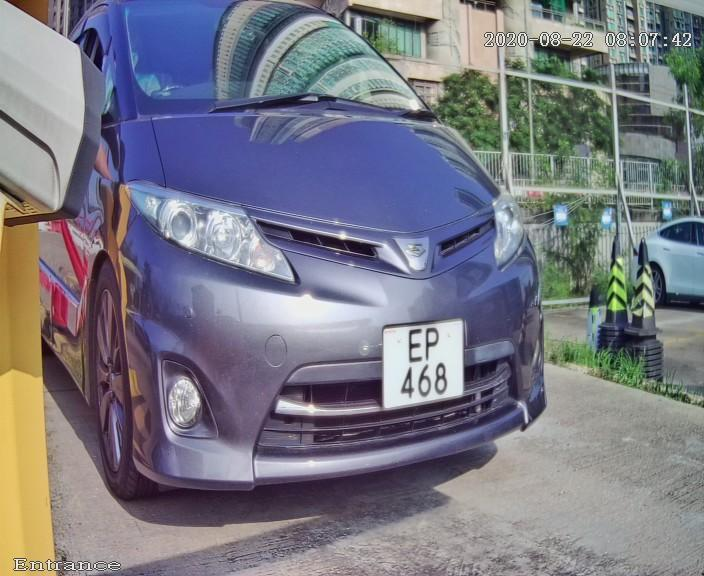Car: (48, 1, 573, 538)
License Plate: (371, 309, 478, 422)
